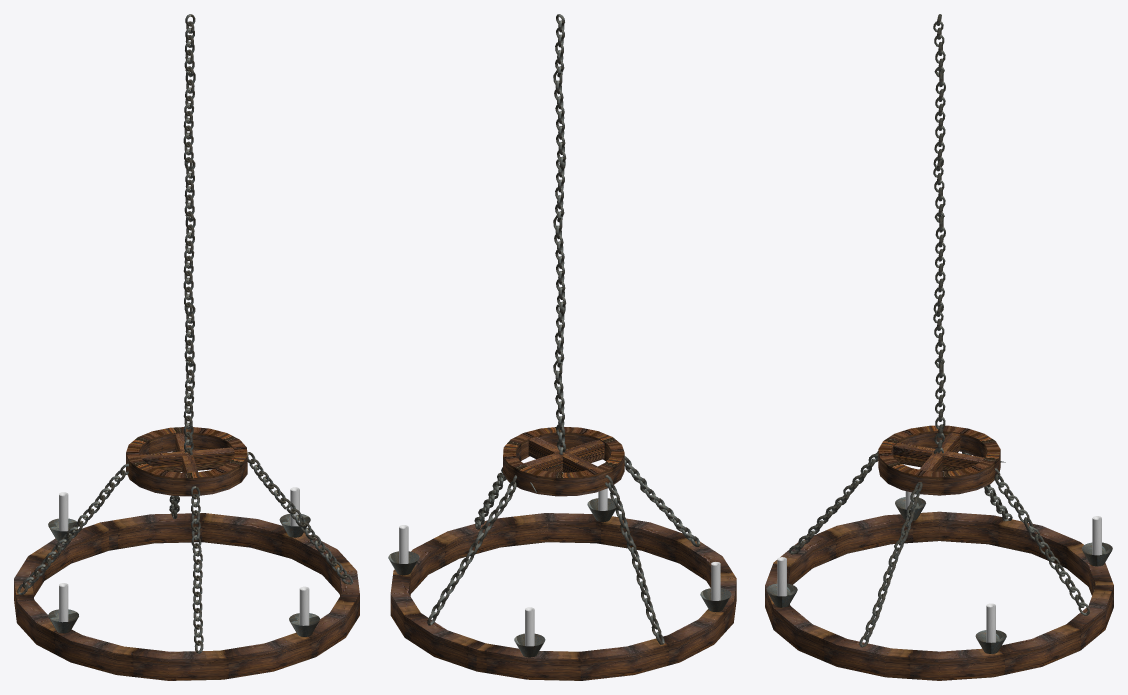
The model's file is chandelier.fbx.
3 views of the same model, side by side, from view 1: azimuth 30°, elevation 25°; view 2: azimuth 150°, elevation 25°; view 3: azimuth 270°, elevation 25° (orthographic).
Visible parts, largest first — view 1: group22_pasted__pasted__pasted__pasted__pasted__MASH4_ReproM; view 2: group22_pasted__pasted__pasted__pasted__pasted__MASH4_ReproM; view 3: group22_pasted__pasted__pasted__pasted__pasted__MASH4_ReproM.
Part boxes in pixels (<box>): group22_pasted__pasted__pasted__pasted__pasted__MASH4_ReproM: <box>14,14,359,680</box>; group22_pasted__pasted__pasted__pasted__pasted__MASH4_ReproM: <box>388,14,736,680</box>; group22_pasted__pasted__pasted__pasted__pasted__MASH4_ReproM: <box>765,14,1113,680</box>.
Bounding box in the file's own units: 11.91 × 22.34 × 11.89.
14 materials, 14 textured.
